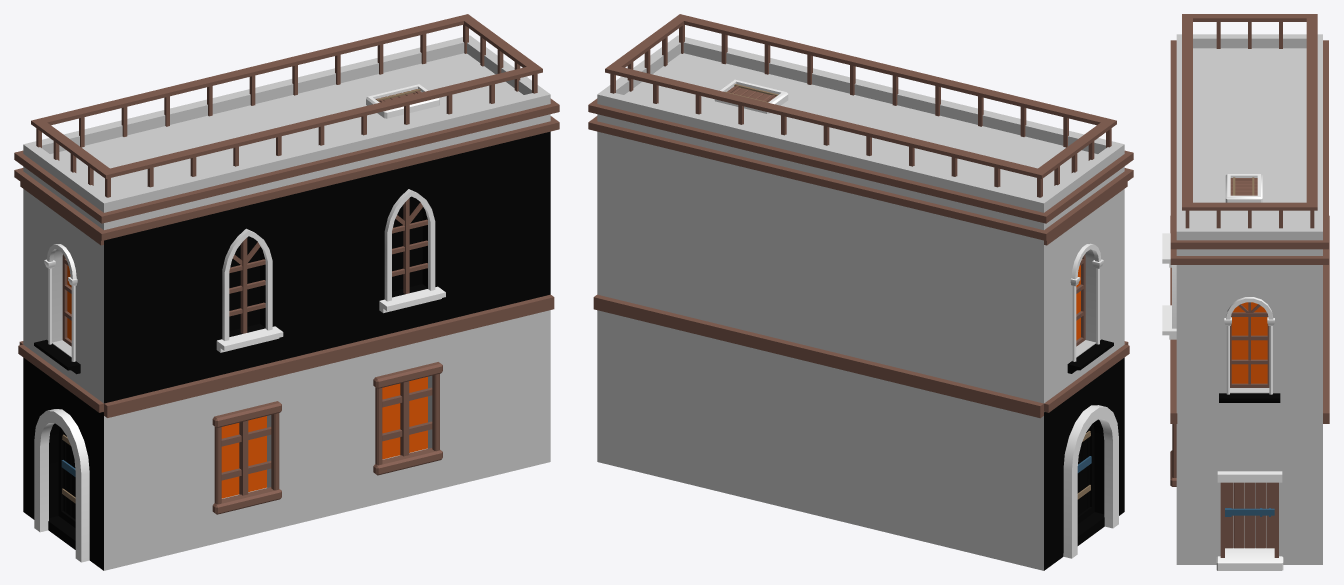
File: civilian_house_36_c.FBX
3 views of the same model, side by side, from view 1: azimuth 30°, elevation 25°; view 2: azimuth 150°, elevation 25°; view 3: azimuth 270°, elevation 25° (orthographic). The views are drawn at different scales.
Parts seen in each view (by area): view 1: civilian_house_36_c_LOD0; view 2: civilian_house_36_c_LOD0; view 3: civilian_house_36_c_LOD0.
Part boxes in pixels (bbox=[...]): civilian_house_36_c_LOD0: bbox=[14, 14, 559, 570]; civilian_house_36_c_LOD0: bbox=[588, 14, 1133, 570]; civilian_house_36_c_LOD0: bbox=[1162, 14, 1329, 570].
Size of what is drawn, in the model's own units: 1059 by 839 by 357.
